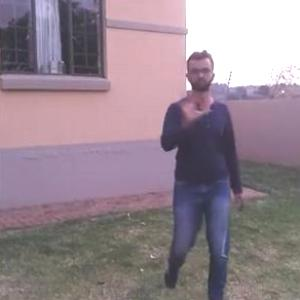follow_hand: (174, 83, 209, 122)
